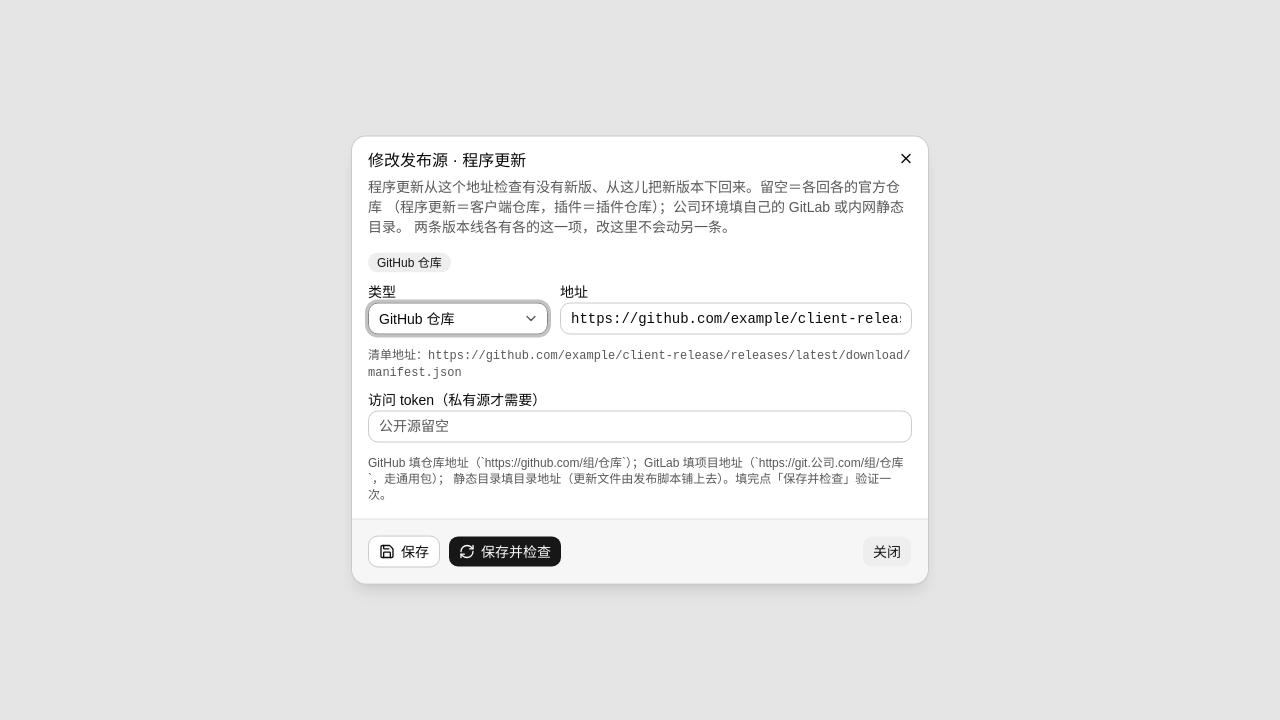
it: SourceDialog › 检查失败时把原因与提示原样说出来（与卡片同一句话）
This screenshot has width=1280, height=720.
Click the button "保存并检查" at coordinates (505, 552), box 448,536 -> 562,568
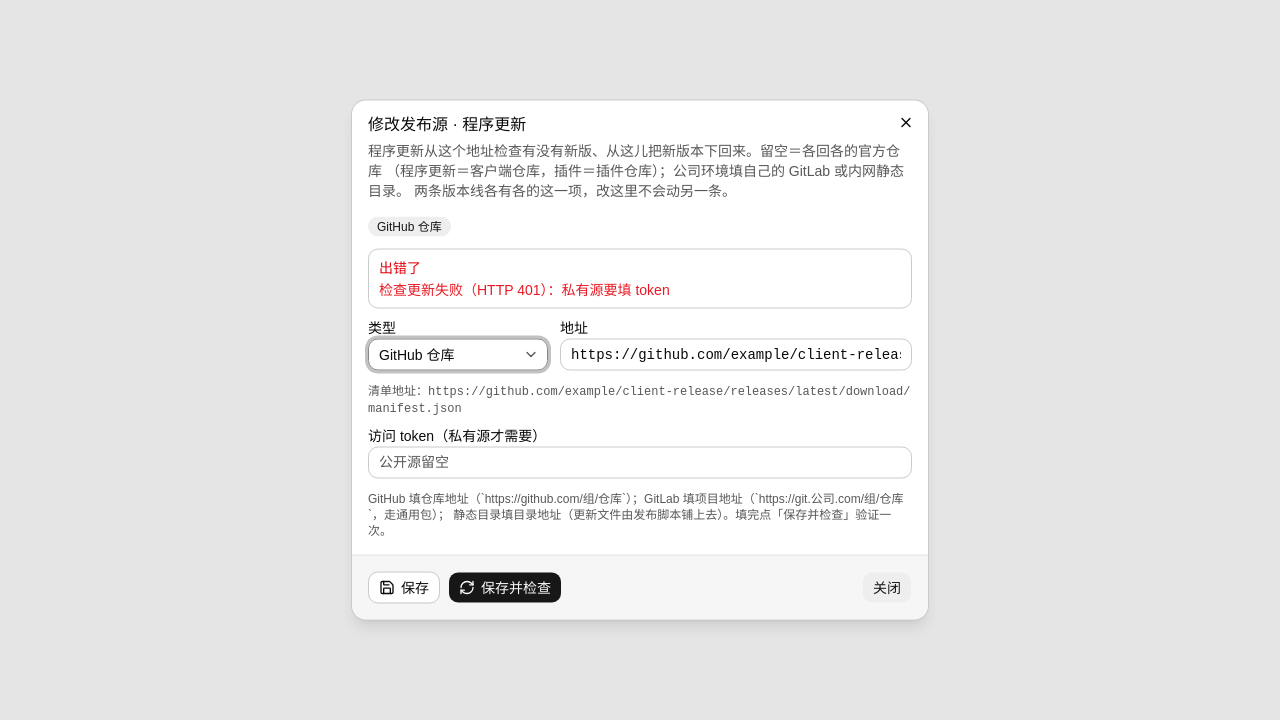
Expected: the text "检查更新失败（HTTP 401）：私有源要填 token" is shown, 379,282 -> 670,298
